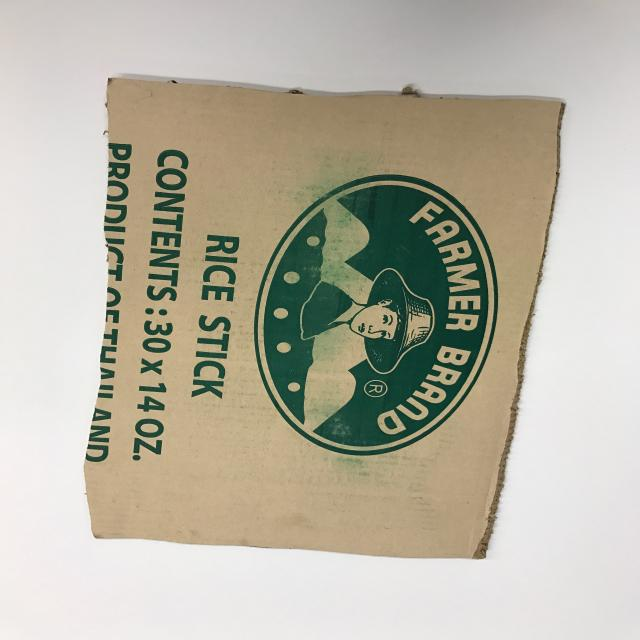cardboard: (83, 75, 566, 560)
